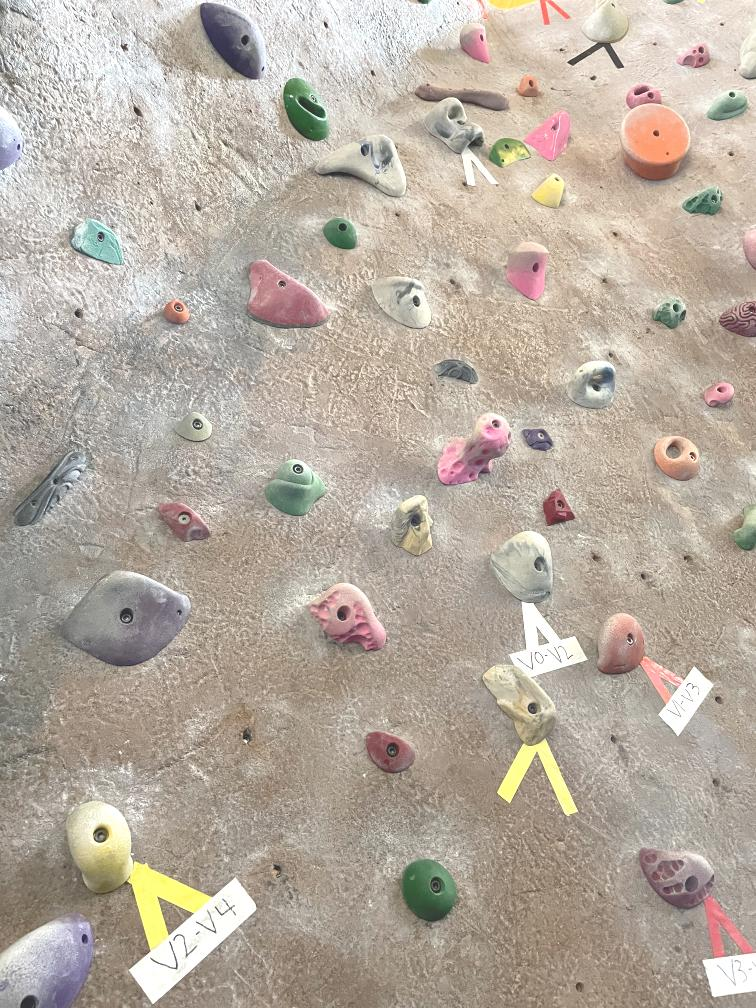Crimp: (151, 493, 226, 546), (65, 213, 127, 272), (170, 410, 219, 449), (488, 135, 533, 170)
Edges: (359, 722, 424, 777)
Foothold: (388, 846, 469, 928), (263, 452, 336, 528), (618, 107, 691, 180), (316, 215, 369, 251), (540, 484, 580, 526), (700, 375, 740, 415), (162, 296, 191, 328)
Hand-holds: (50, 793, 162, 897), (466, 658, 570, 759), (436, 406, 514, 487), (500, 230, 558, 306), (522, 108, 582, 170), (716, 294, 756, 347)
Jug: (55, 548, 201, 670), (312, 130, 417, 205), (300, 579, 396, 656), (635, 842, 720, 916), (489, 530, 557, 610), (368, 272, 448, 337), (586, 614, 658, 684), (384, 493, 445, 558), (455, 20, 500, 66), (681, 179, 728, 219), (529, 170, 569, 212), (649, 294, 692, 330), (731, 495, 756, 554), (674, 39, 714, 70), (520, 423, 559, 453), (516, 72, 543, 100)
Pinch: (8, 435, 103, 535), (413, 81, 511, 114), (702, 88, 756, 124), (432, 357, 483, 389)
Pocket: (274, 67, 340, 144), (418, 94, 488, 159), (560, 361, 631, 413), (652, 431, 705, 484), (624, 81, 668, 109)
Sloper: (0, 904, 104, 1007), (240, 253, 336, 334), (191, 1, 270, 80), (580, 0, 637, 56)
